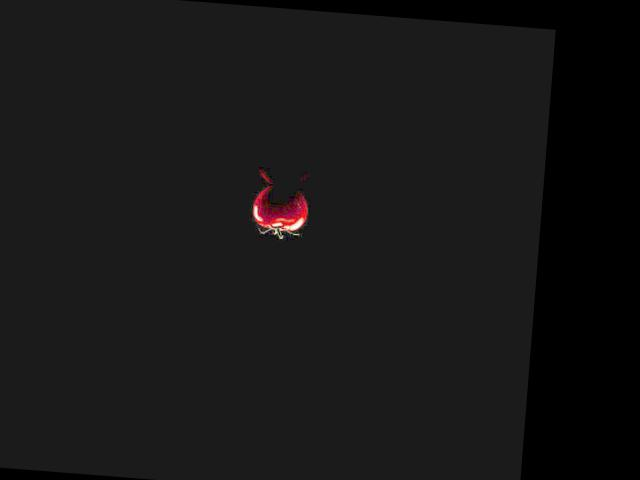tomato: (251, 185, 309, 233)
